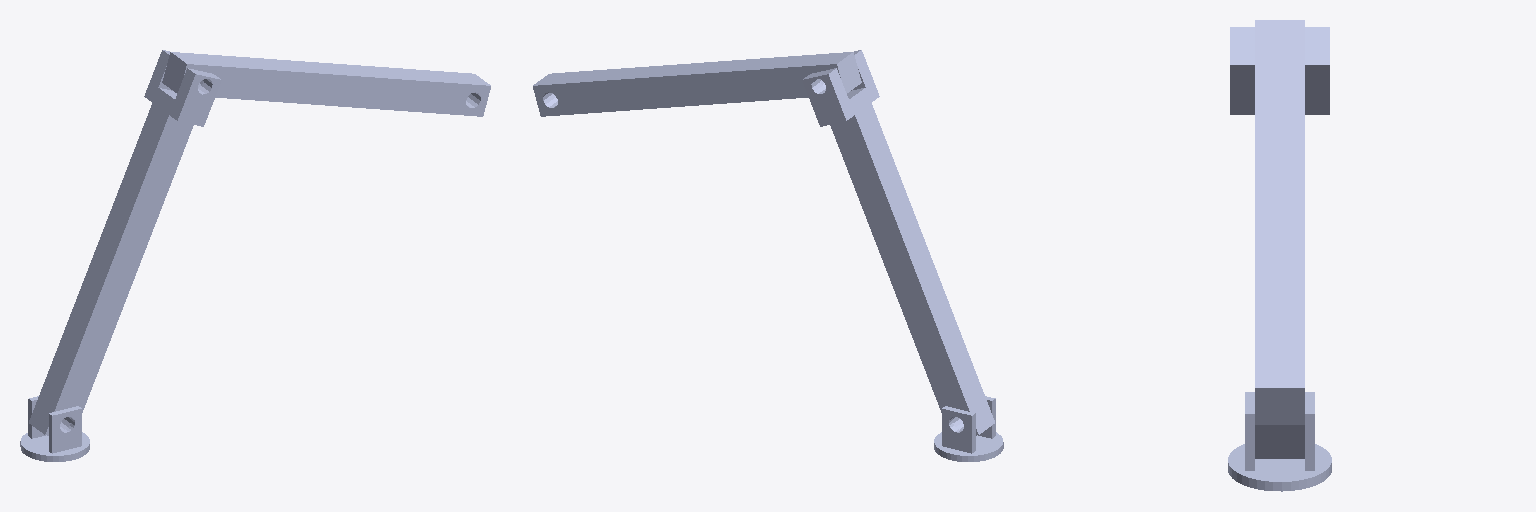
robot.urdf — Full_Arm_Test_Too:
<?xml version="1.0" encoding="utf-8"?>
<!-- This URDF was automatically created by SolidWorks to URDF Exporter! Originally created by [author] ([email redacted]) 
     Commit Version: 1.6.0-4-g7f85cfe  Build Version: 1.6.7995.38578
     For more information, please see http://wiki.ros.org/sw_urdf_exporter -->
<robot
  name="Full_Arm_Test_Too">
  <link
    name="base_link">
    <inertial>
      <origin
        xyz="0.034127 0.046295 0.10244"
        rpy="0 0 0" />
      <mass
        value="0.12872" />
      <inertia
        ixx="0.00014224"
        ixy="2.1891E-07"
        ixz="8.1223E-21"
        iyy="0.00015291"
        iyz="3.3174E-20"
        izz="0.00011173" />
    </inertial>
    <visual>
      <origin
        xyz="0 0 0"
        rpy="0 0 0" />
      <geometry>
        <mesh
          filename="package://Full_Arm_Test_Too/meshes/base_link.STL" />
      </geometry>
      <material
        name="">
        <color
          rgba="0.79216 0.81961 0.93333 1" />
      </material>
    </visual>
    <collision>
      <origin
        xyz="0 0 0"
        rpy="0 0 0" />
      <geometry>
        <mesh
          filename="package://Full_Arm_Test_Too/meshes/base_link.STL" />
      </geometry>
    </collision>
  </link>
  <link
    name="link_1">
    <inertial>
      <origin
        xyz="0.27319 -0.0010176 0.048"
        rpy="0 0 0" />
      <mass
        value="1.3399" />
      <inertia
        ixx="0.00069097"
        ixy="-6.4369E-06"
        ixz="6.8785E-19"
        iyy="0.036828"
        iyz="7.9317E-20"
        izz="0.036666" />
    </inertial>
    <visual>
      <origin
        xyz="0 0 0"
        rpy="0 0 0" />
      <geometry>
        <mesh
          filename="package://Full_Arm_Test_Too/meshes/link_1.STL" />
      </geometry>
      <material
        name="">
        <color
          rgba="0.79216 0.81961 0.93333 1" />
      </material>
    </visual>
    <collision>
      <origin
        xyz="0 0 0"
        rpy="0 0 0" />
      <geometry>
        <mesh
          filename="package://Full_Arm_Test_Too/meshes/link_1.STL" />
      </geometry>
    </collision>
  </link>
  <joint
    name="joint_1"
    type="revolute">
    <origin
      xyz="0.034874 -0.054443 0.078413"
      rpy="1.5708 -1.1502 0" />
    <parent
      link="base_link" />
    <child
      link="link_1" />
    <axis
      xyz="0 0 -1" />
    <limit
      lower="0"
      upper="6.28"
      effort="300"
      velocity="3" />
  </joint>
  <link
    name="link_2">
    <inertial>
      <origin
        xyz="0.24 -4.4409E-16 0.024"
        rpy="0 0 0" />
      <mass
        value="1.1694" />
      <inertia
        ixx="0.00045625"
        ixy="4.1796E-17"
        ixz="1.0323E-19"
        iyy="0.02577"
        iyz="-1.0029E-20"
        izz="0.025778" />
    </inertial>
    <visual>
      <origin
        xyz="0 0 0"
        rpy="0 0 0" />
      <geometry>
        <mesh
          filename="package://Full_Arm_Test_Too/meshes/link_2.STL" />
      </geometry>
      <material
        name="">
        <color
          rgba="0.79608 0.82353 0.93725 1" />
      </material>
    </visual>
    <collision>
      <origin
        xyz="0 0 0"
        rpy="0 0 0" />
      <geometry>
        <mesh
          filename="package://Full_Arm_Test_Too/meshes/link_2.STL" />
      </geometry>
    </collision>
  </link>
  <joint
    name="joint_2"
    type="revolute">
    <origin
      xyz="0.538 -0.001 0.024"
      rpy="0 0 -1.4434" />
    <parent
      link="link_1" />
    <child
      link="link_2" />
    <axis
      xyz="0 0 -1" />
    <limit
      lower="0"
      upper="6.28"
      effort="300"
      velocity="3" />
  </joint>
</robot>

--- Facts derived from the render (not from the file) ---
Views: 3 orthographic renders of the robot side by side, from view 1: azimuth 30°, elevation 25°; view 2: azimuth 150°, elevation 25°; view 3: azimuth 270°, elevation 25°.
Model Full_Arm_Test_Too with 3 links and 2 joints (2 revolute), rooted at base_link, posed every joint at zero.
Links seen in each view (by area): view 1: link_1, link_2, base_link; view 2: link_1, link_2, base_link; view 3: link_2, link_1, base_link.
Link boxes in pixels (bbox=[...]): link_1: bbox=[29, 50, 221, 435]; link_2: bbox=[162, 52, 490, 116]; base_link: bbox=[20, 396, 89, 461]; link_1: bbox=[802, 50, 994, 435]; link_2: bbox=[533, 52, 861, 116]; base_link: bbox=[934, 396, 1003, 461]; link_2: bbox=[1255, 20, 1304, 424]; link_1: bbox=[1230, 27, 1329, 458]; base_link: bbox=[1228, 392, 1331, 491].
Bounding box of the posed robot: 0.7607 × 0.1 × 0.5706 m (x, y, z).
3 mesh visuals loaded from 3 distinct referenced files (3 binary STL).